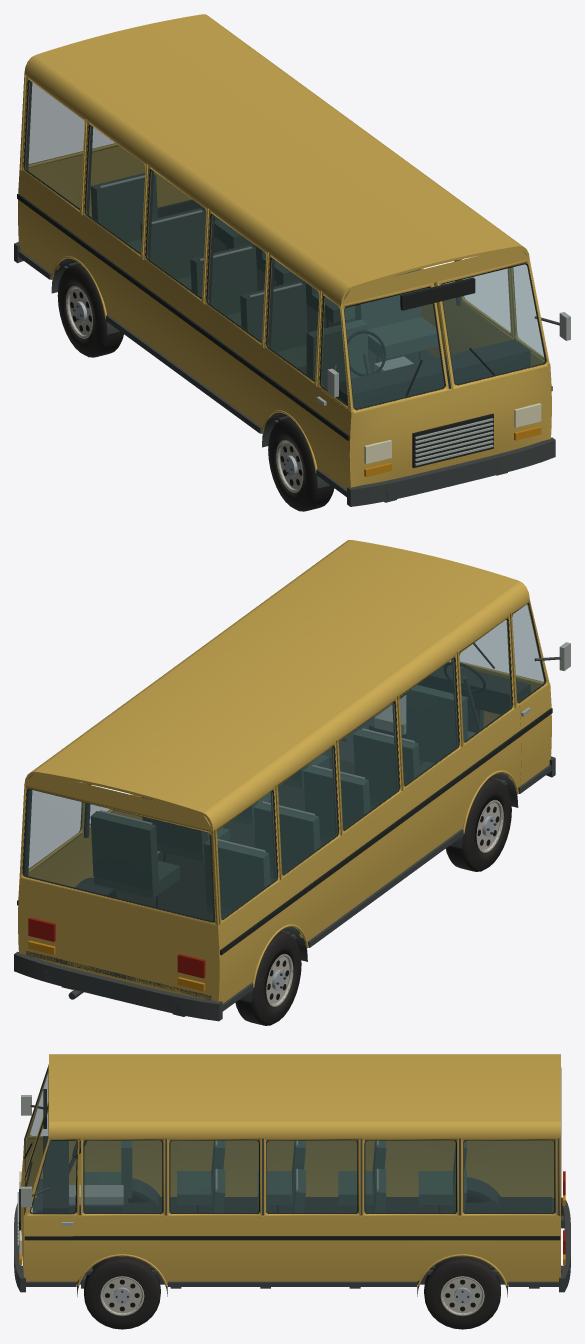
File: shuttle.glb
3 views of the same model, one above another, from view 1: azimuth 30°, elevation 25°; view 2: azimuth 150°, elevation 25°; view 3: azimuth 270°, elevation 25° (orthographic). The views are drawn at different scales.
Visible parts, largest first — view 1: panel_RoofShuttle, panel_hoodShuttle, panel_RoofShoulderShuttleL, glass_FrontShuttle-1, glass_FrontShuttle1, Interior Calder dash, glass_PassengerShuttleL0, glass_PassengerShuttleL2, glass_PassengerShuttleL1, glass_PassengerShuttleL3, glass_PassengerShuttleL4, panel_bumper_frontShuttle (+38 smaller); view 2: panel_RoofShuttle, glass_RearShuttle, panel_RearLowerShuttle, panel_RoofShoulderShuttleL, glass_PassengerShuttleL0, glass_PassengerShuttleL1, glass_PassengerShuttleL2, glass_PassengerShuttleL3, glass_PassengerShuttleL4, panel_bumper_rearShuttle, Interior Calder passenger 1 3 back, panel_SideShuttleL3 (+34 smaller); view 3: panel_RoofShuttle, panel_RoofShoulderShuttleR, glass_PassengerShuttleR1, glass_PassengerShuttleR2, glass_PassengerShuttleR0, glass_PassengerShuttleR3, glass_PassengerShuttleR4, panel_SideShuttleR2, panel_SideShuttleR3, panel_SideShuttleR4, Interior Calder passenger floor, panel_SideShuttleR5 (+53 smaller).
Part boxes in pixels (x1,y1,x2,y2): panel_RoofShuttle: [36, 14, 518, 288]; panel_hoodShuttle: [351, 366, 549, 487]; panel_RoofShoulderShuttleL: [24, 55, 353, 305]; glass_FrontShuttle-1: [344, 288, 444, 408]; glass_FrontShuttle1: [442, 264, 544, 384]; Interior Calder dash: [338, 339, 530, 408]; glass_PassengerShuttleL0: [25, 81, 84, 208]; glass_PassengerShuttleL2: [146, 170, 206, 297]; glass_PassengerShuttleL1: [86, 126, 145, 252]; glass_PassengerShuttleL3: [207, 215, 265, 340]; glass_PassengerShuttleL4: [267, 259, 319, 379]; panel_bumper_frontShuttle: [347, 437, 555, 506]; panel_RoofShuttle: [36, 540, 517, 814]; glass_RearShuttle: [24, 789, 214, 920]; panel_RearLowerShuttle: [19, 878, 217, 1001]; panel_RoofShoulderShuttleL: [200, 580, 529, 831]; glass_PassengerShuttleL0: [217, 791, 276, 918]; glass_PassengerShuttleL1: [278, 747, 337, 873]; glass_PassengerShuttleL2: [339, 702, 398, 829]; glass_PassengerShuttleL3: [400, 659, 458, 784]; glass_PassengerShuttleL4: [459, 620, 511, 741]; panel_bumper_rearShuttle: [14, 951, 222, 1021]; Interior Calder passenger 1 3 back: [90, 811, 158, 890]; panel_SideShuttleL3: [359, 783, 416, 903]; panel_RoofShuttle: [49, 1055, 560, 1120]; panel_RoofShoulderShuttleR: [49, 1120, 560, 1138]; glass_PassengerShuttleR1: [365, 1140, 455, 1212]; glass_PassengerShuttleR2: [267, 1140, 357, 1212]; glass_PassengerShuttleR0: [464, 1140, 554, 1212]; glass_PassengerShuttleR3: [170, 1140, 258, 1212]; glass_PassengerShuttleR4: [84, 1140, 162, 1212]; panel_SideShuttleR2: [332, 1215, 422, 1281]; panel_SideShuttleR3: [243, 1215, 332, 1281]; panel_SideShuttleR4: [158, 1215, 243, 1283]; Interior Calder passenger floor: [122, 1197, 552, 1269]; panel_SideShuttleR5: [73, 1215, 158, 1281].
Size of the model in its own units: 2.47 by 2.55 by 6.22.
